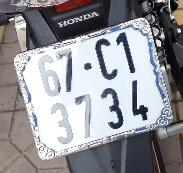1: (116, 32, 141, 76)
3: (50, 99, 75, 150), (101, 84, 125, 136)
4: (128, 76, 152, 130)
6: (39, 50, 62, 103)
7: (73, 94, 101, 141), (56, 47, 75, 94)
C: (94, 36, 120, 83)
